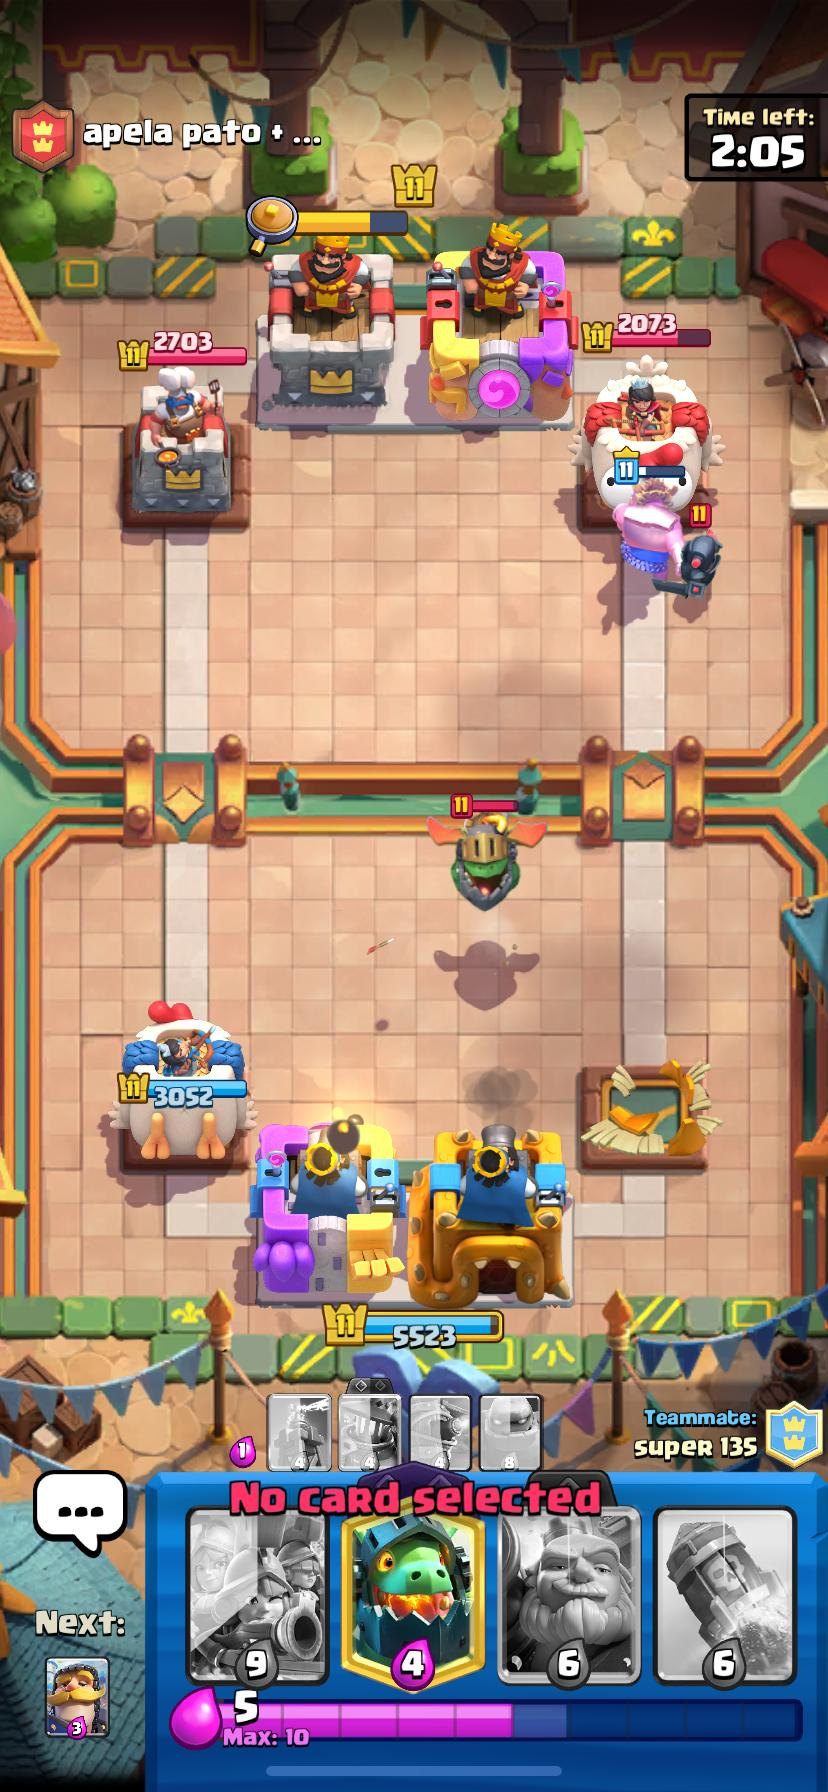EInfernoDrag: (428, 811, 546, 911)
EKingTower: (427, 225, 578, 423), (257, 239, 393, 424)
EMiniPeka: (659, 530, 720, 598)
EnemyPanTower: (122, 371, 250, 526)
EnemyPrincessTower: (575, 365, 709, 488)
ORoyalKnight: (614, 479, 684, 578)
OwnKingTower: (407, 1125, 572, 1307), (250, 1119, 401, 1301)
OwnPrincessTower: (110, 1001, 255, 1160)
TowerDown: (579, 1059, 720, 1170)
